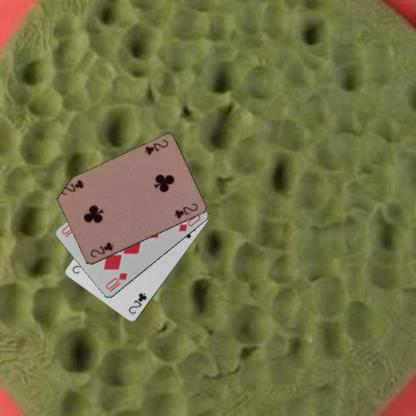10d: (103, 271, 128, 292)
2c: (141, 137, 170, 158), (126, 290, 148, 316), (88, 240, 115, 259)
